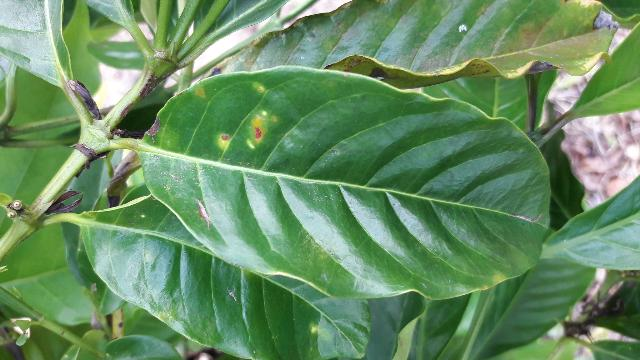rust_level_1: (142, 65, 550, 298)
